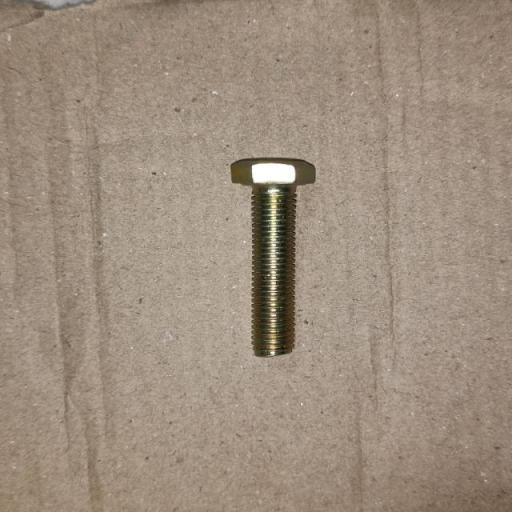Bolt: (230, 157, 316, 358)
